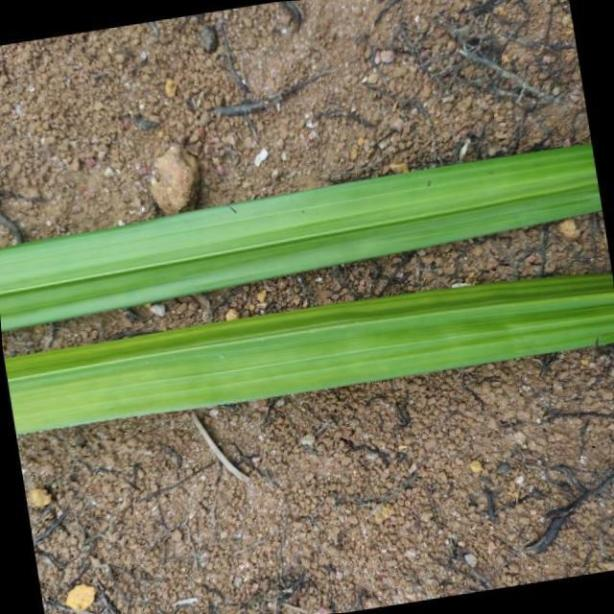nitrogen: (0, 144, 614, 331), (0, 269, 614, 438)
